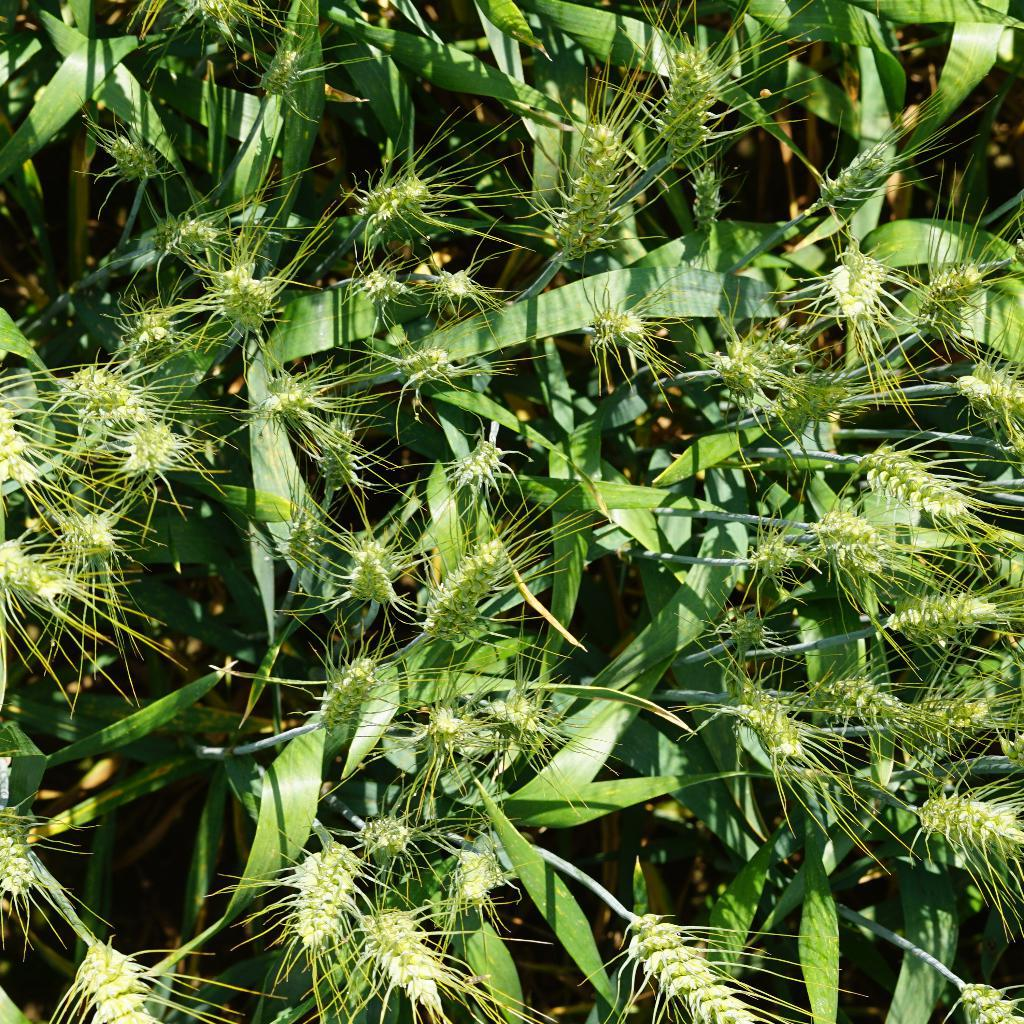0-0: (612, 908, 769, 1024), (548, 101, 634, 271), (68, 920, 205, 1024), (347, 892, 458, 1013), (848, 438, 978, 523), (434, 530, 515, 649), (918, 777, 1024, 864), (806, 129, 901, 225), (808, 224, 890, 332), (882, 576, 1013, 642), (288, 822, 358, 942), (653, 38, 718, 167), (0, 535, 96, 619), (907, 242, 982, 347), (354, 154, 448, 235), (580, 281, 661, 366), (0, 788, 55, 909), (942, 350, 1024, 431), (276, 490, 339, 595), (768, 350, 854, 426), (732, 694, 828, 761), (810, 664, 912, 725), (309, 643, 378, 731), (55, 500, 142, 568), (448, 837, 524, 914), (904, 681, 1004, 739), (303, 408, 372, 490), (681, 153, 744, 242), (484, 687, 567, 754), (0, 369, 38, 507), (152, 193, 230, 260), (95, 120, 174, 184), (705, 326, 777, 395), (75, 357, 146, 426), (443, 421, 516, 485), (208, 253, 276, 320), (123, 411, 187, 481), (348, 539, 408, 612), (251, 351, 311, 423), (736, 526, 818, 578), (721, 605, 784, 672), (415, 261, 490, 317), (402, 337, 462, 406), (251, 37, 306, 108), (119, 296, 190, 351), (346, 254, 413, 311), (815, 507, 879, 560), (357, 813, 417, 867), (418, 690, 479, 743)
